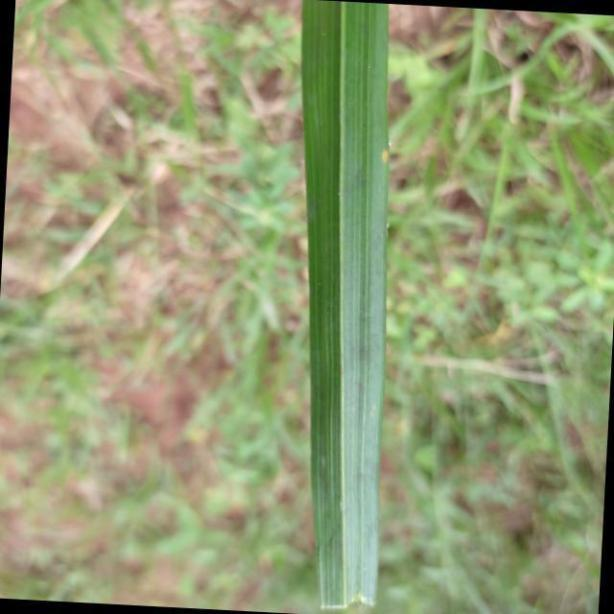Boron: (296, 0, 395, 612)
